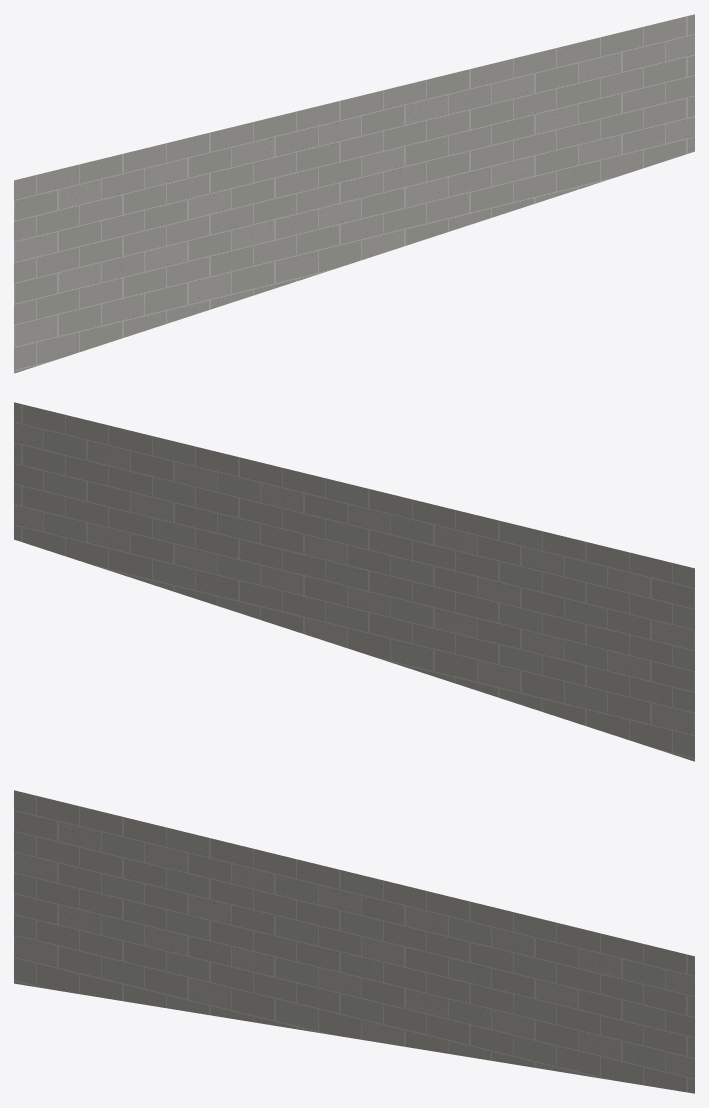
The model's file is kd_stage_135ded_1_12_bounded.glb.
The picture shows the model from 3 angles, top to bottom: view 1: azimuth 30°, elevation 25°; view 2: azimuth 150°, elevation 25°; view 3: azimuth 330°, elevation 25°; orthographic projection.
Parts seen in each view (by area): view 1: kd_stage_135ded_1_12_bounded; view 2: kd_stage_135ded_1_12_bounded; view 3: kd_stage_135ded_1_12_bounded.
Boxes of the visible parts, box(x1,y1,x2,y2) form: kd_stage_135ded_1_12_bounded: box(14, 14, 694, 373); kd_stage_135ded_1_12_bounded: box(14, 402, 694, 761); kd_stage_135ded_1_12_bounded: box(14, 790, 694, 1093).
Size of the model in its own units: 8.39 by 2.28 by 6.68e-06.
Materials: 1 (1 with a texture image).
